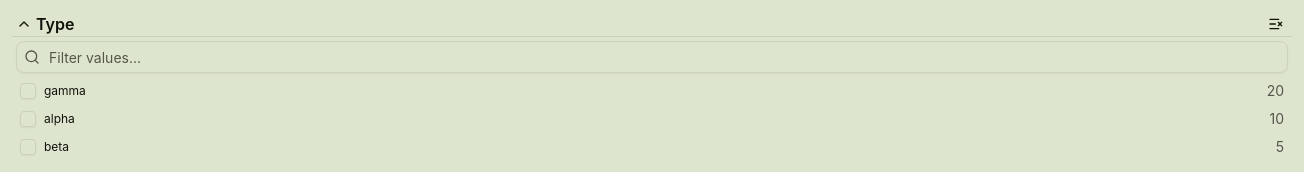
Scenario: FilterSection › search filtering is case-insensitive
The image size is (1304, 172).
In the field with placeholder "Filter values...": (652, 57) [16, 41, 1288, 73], type "BETA"
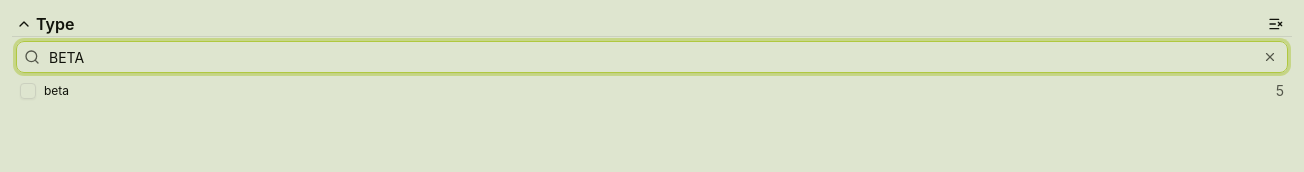
Expected: the list item shows "beta", [12, 77, 1292, 105]
Result: the number of list items is 1 at [12, 77, 1292, 105]
